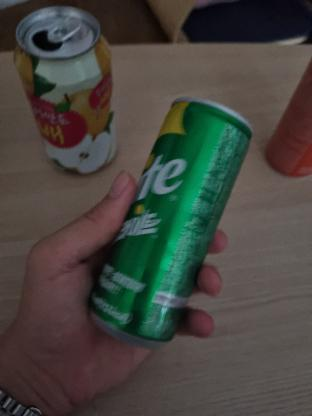Can: (86, 111, 272, 335)
